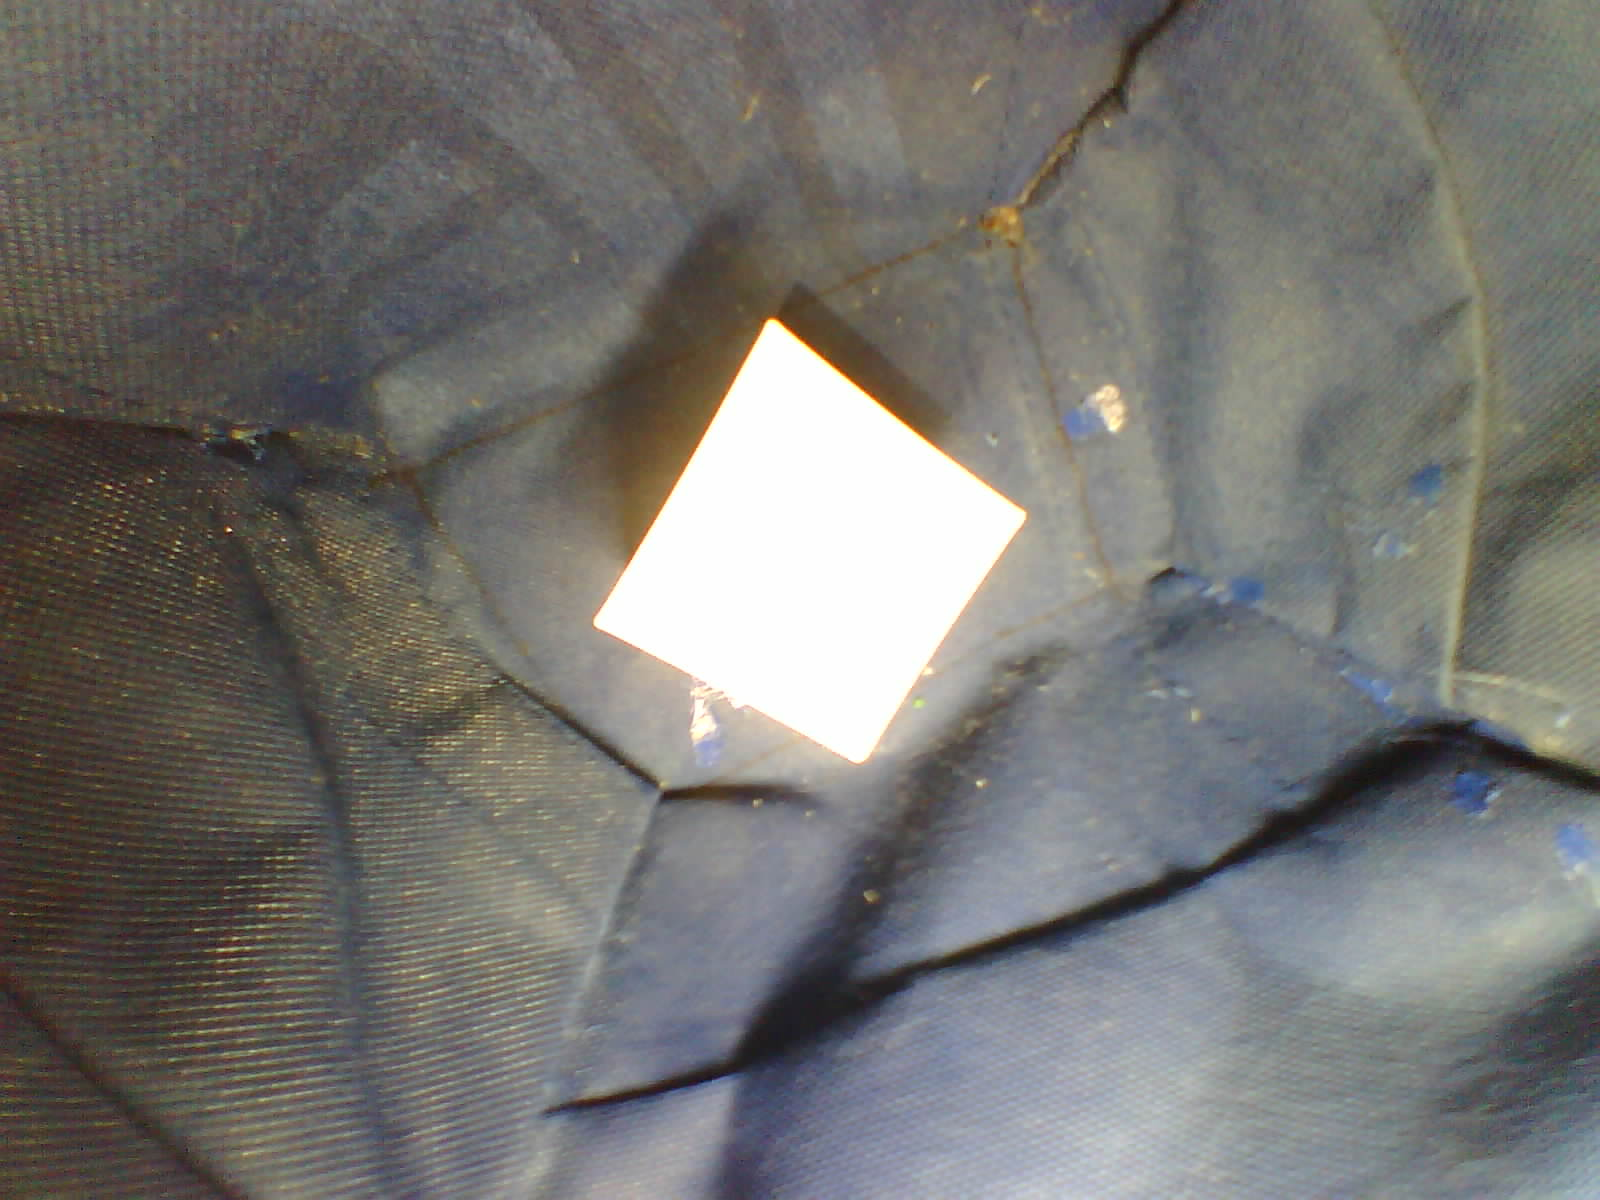cube-hard: (573, 304, 1039, 783)
